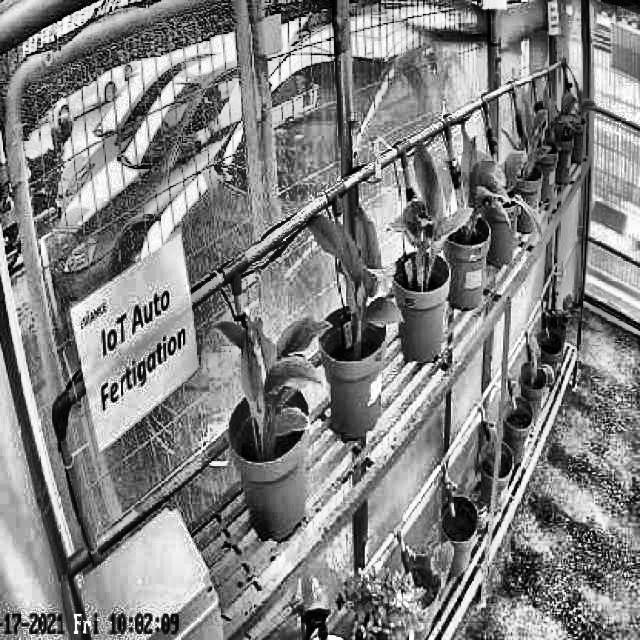plants: (216, 320, 332, 440), (304, 208, 404, 330), (388, 142, 468, 276), (458, 131, 507, 232), (520, 98, 548, 180)
